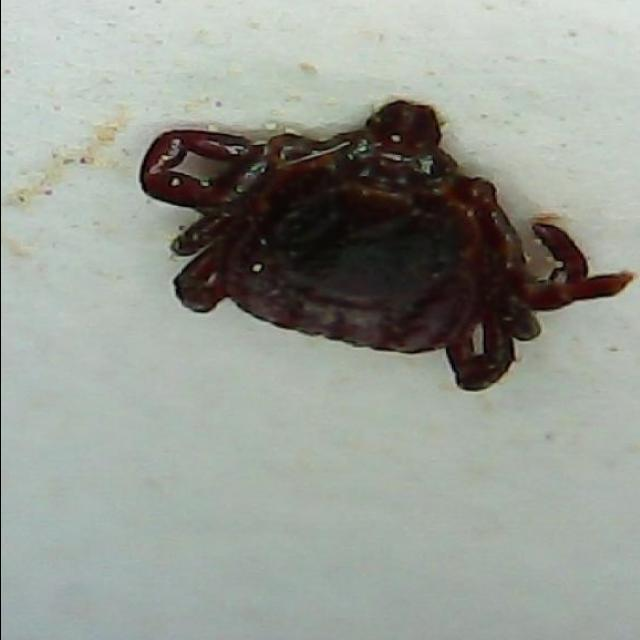Rhipicephalus Sanguineus-F: (139, 98, 636, 393)
